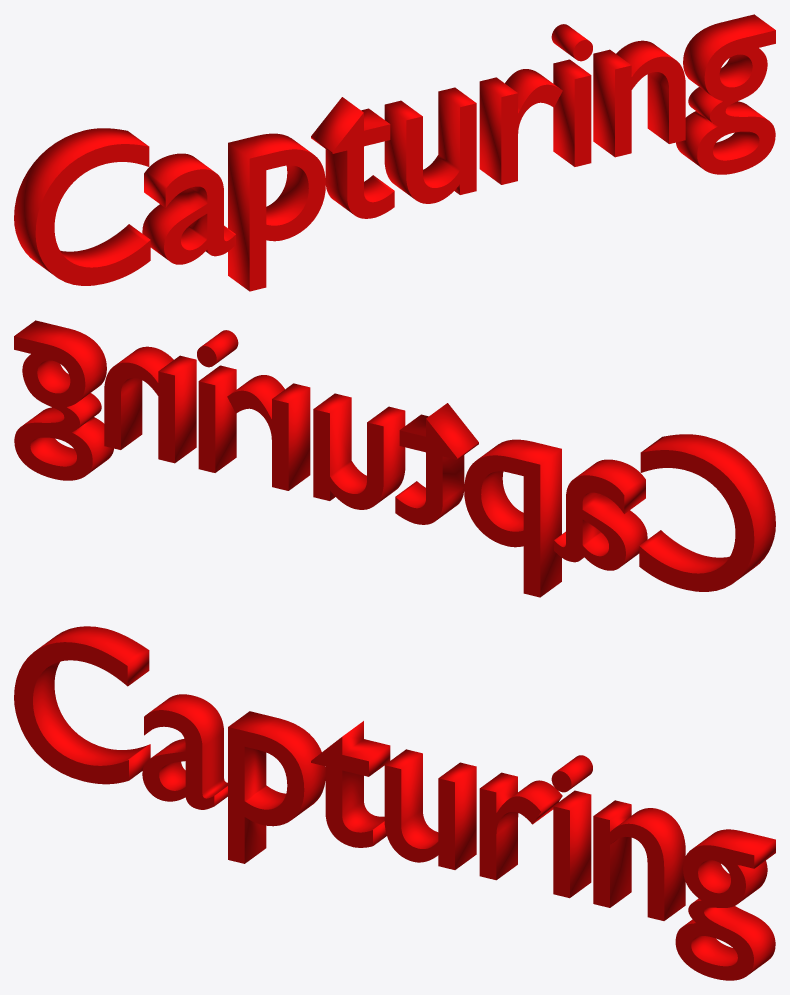
Rendered from capture.obj.
3 renders of one model, top to bottom at view 1: azimuth 30°, elevation 25°; view 2: azimuth 150°, elevation 25°; view 3: azimuth 330°, elevation 25°, orthographic.
Visible parts, largest first — view 1: Text_text; view 2: Text_text; view 3: Text_text.
Boxes of the visible parts, box(x1,y1,x2,y2) form: Text_text: box(14, 14, 775, 291); Text_text: box(14, 320, 775, 597); Text_text: box(14, 626, 775, 980).
Bounding box in the file's own units: 3.96 × 0.921 × 0.2.
